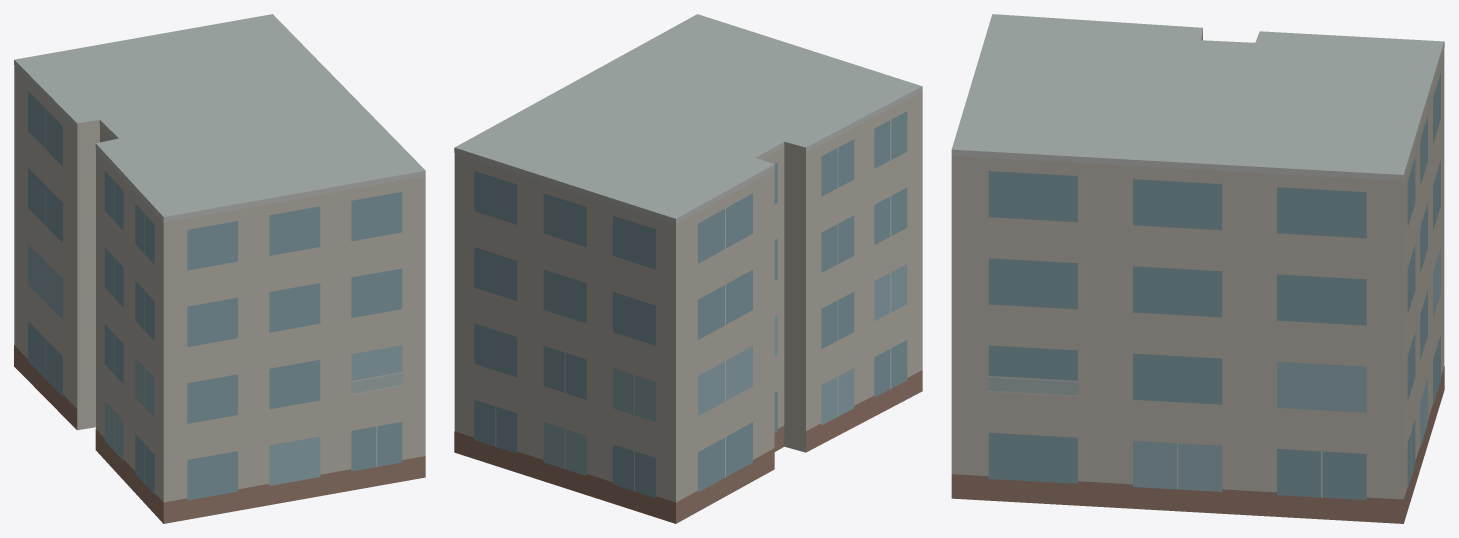
Rendered from survey-upis-32984099.glb.
The picture shows the model from 3 angles, left to right: view 1: azimuth 30°, elevation 25°; view 2: azimuth 150°, elevation 25°; view 3: azimuth 270°, elevation 25°; orthographic projection. The views are drawn at different scales.
Visible parts, largest first — view 1: survey-upis-32984099.tmp; view 2: survey-upis-32984099.tmp; view 3: survey-upis-32984099.tmp.
Part boxes in pixels (left/top/right/bottom): survey-upis-32984099.tmp: left=14, top=14, right=425, bottom=523; survey-upis-32984099.tmp: left=454, top=14, right=922, bottom=523; survey-upis-32984099.tmp: left=951, top=14, right=1444, bottom=523.
Size of the model in its own units: 13.7 by 13.84 by 17.72.
